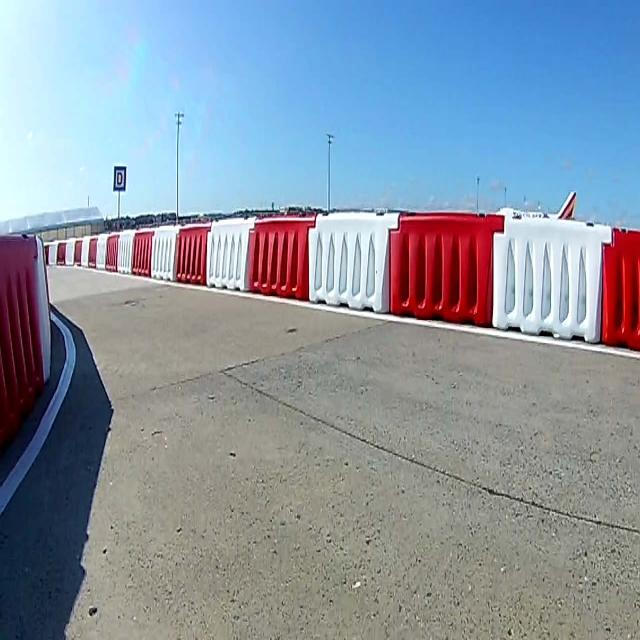durak: (114, 166, 126, 191)
